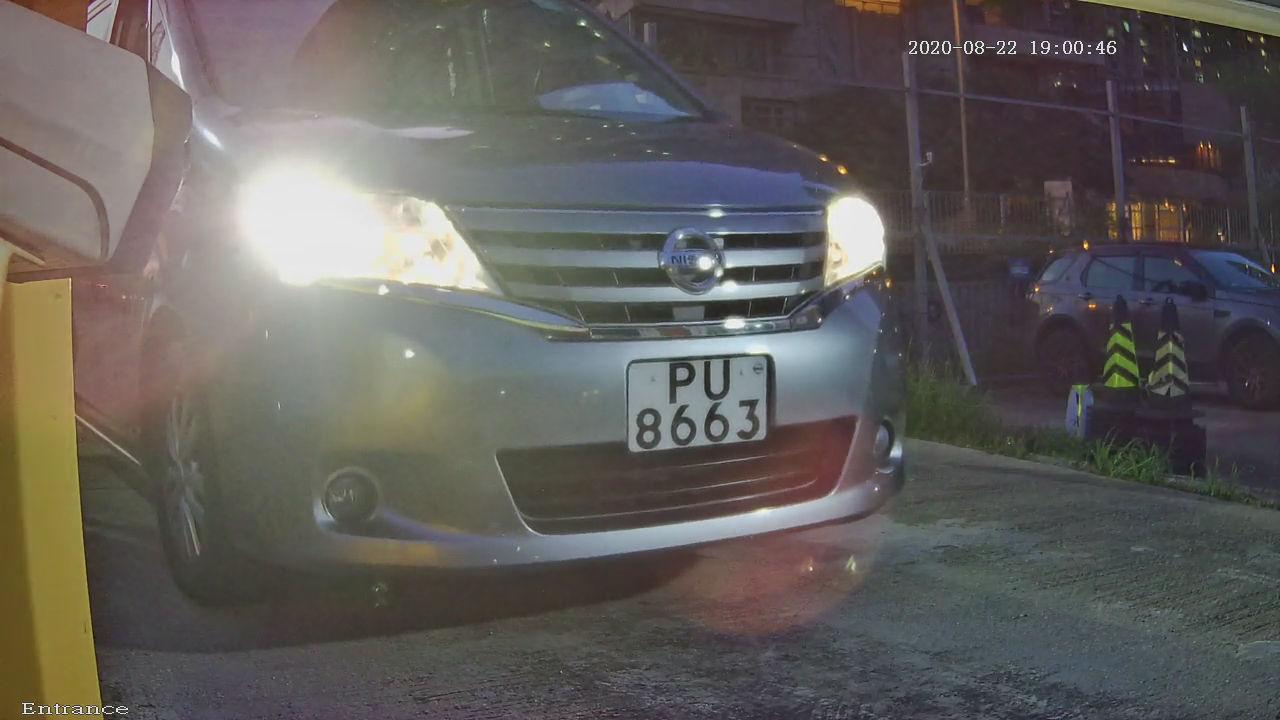Car: (23, 17, 1018, 643)
License Plate: (612, 328, 795, 467)
